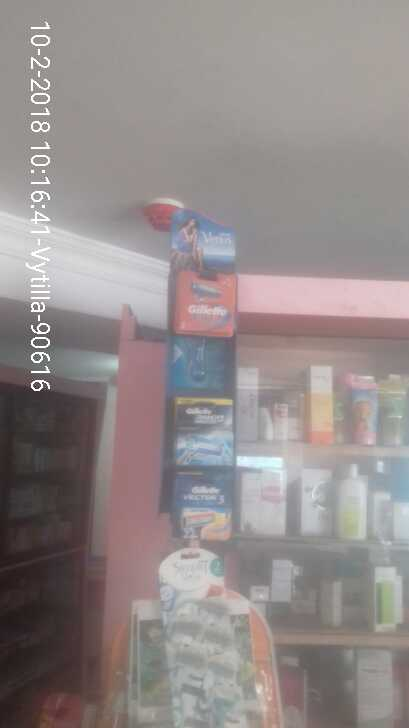beauty: (165, 255, 240, 341), (173, 390, 238, 467), (174, 473, 241, 543)
